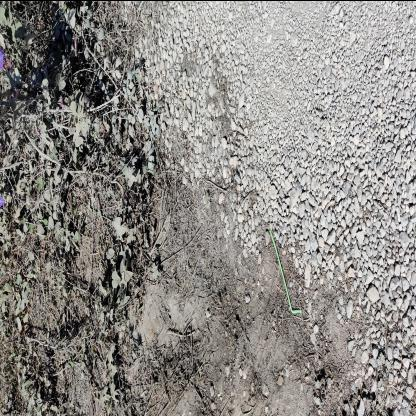plastik: (268, 228, 302, 313)
